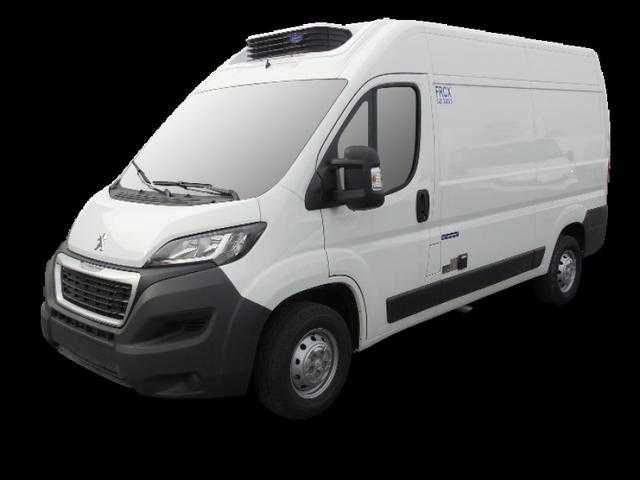van: (40, 18, 611, 419)
